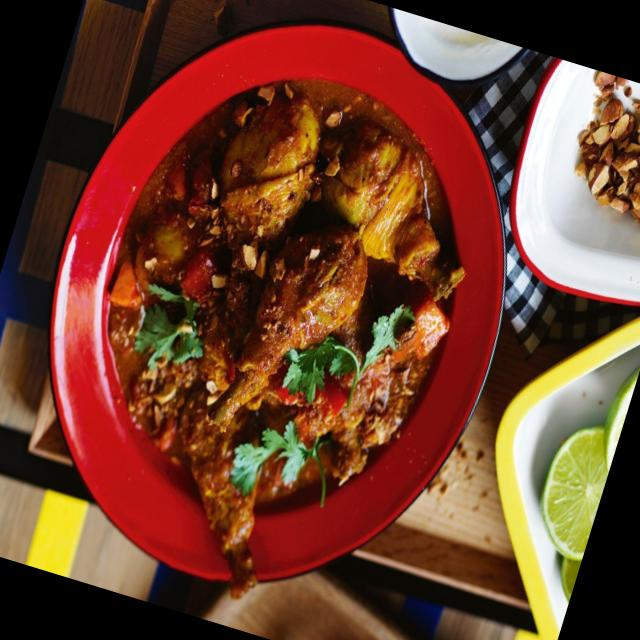chicken: (33, 39, 494, 574)
